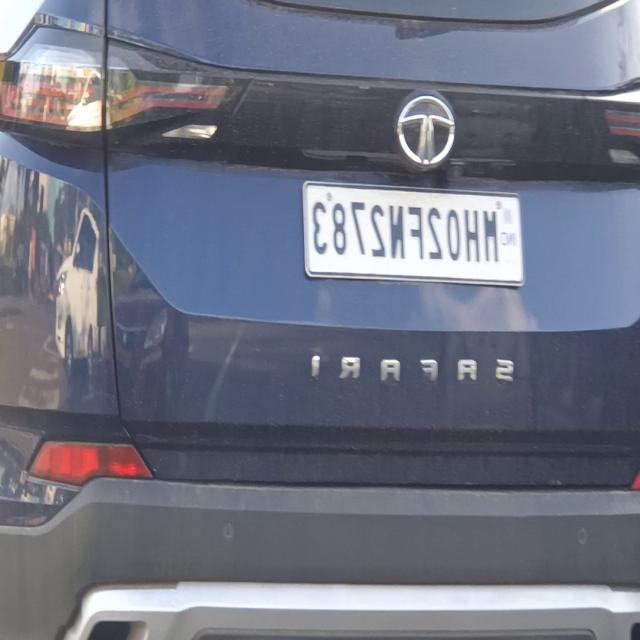license_plate: (297, 172, 525, 293)
